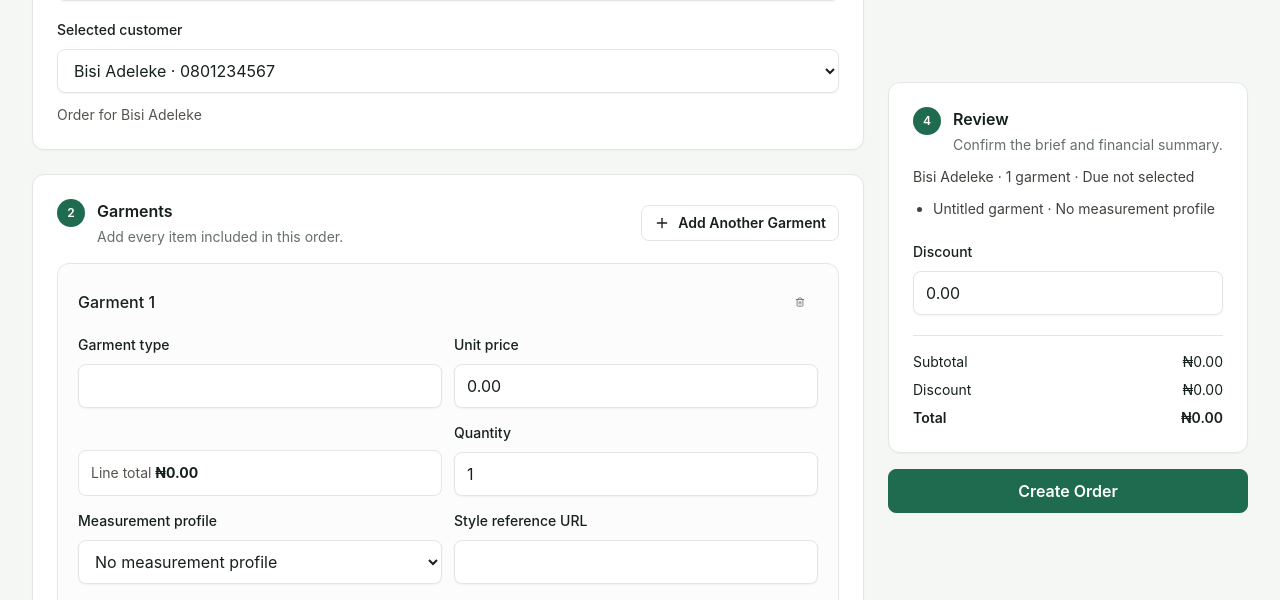
Test case: API creation error preserves form state
(page scrolled)
expect the text "Order for Bisi Adeleke" is shown: met, box [57,106,202,122]
Type "Agbada" into the field labelled "Garment type".
click(260, 386); type("Agbada")  # box [78,364,442,408]
(page scrolled)
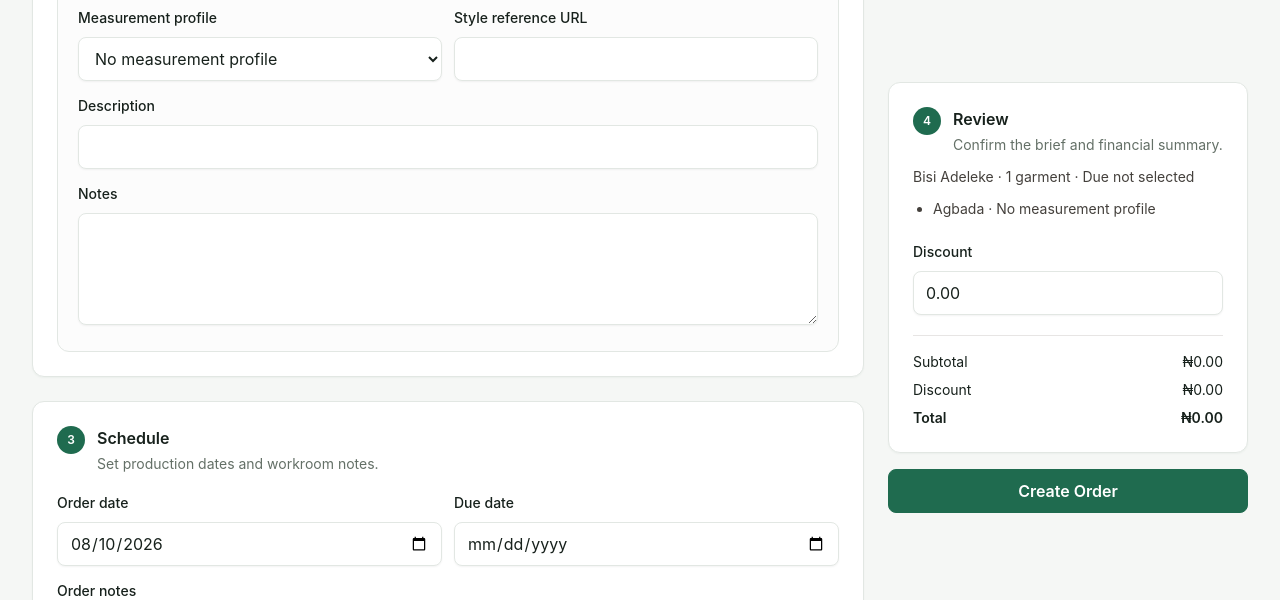
Type "2026-08-20" into the date field labelled "Due date".
click(646, 544); type("2026-08-20")  # box [454,522,839,566]
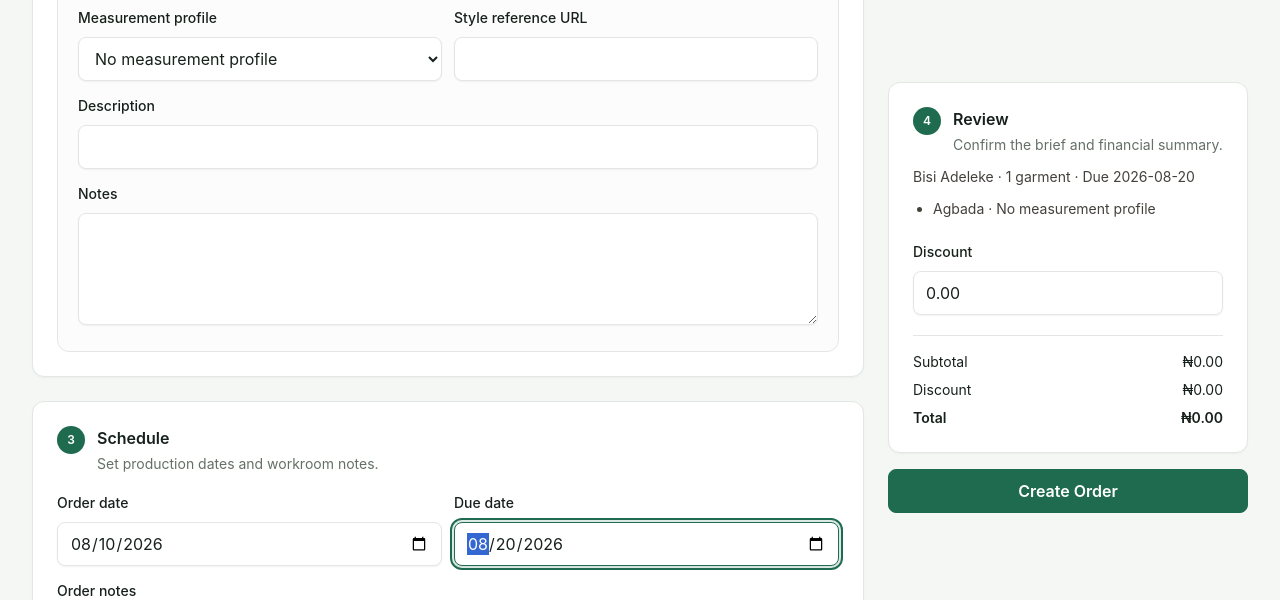
Click the button "Create Order".
click(1068, 490)  # box [888,468,1248,512]
(page scrolled)
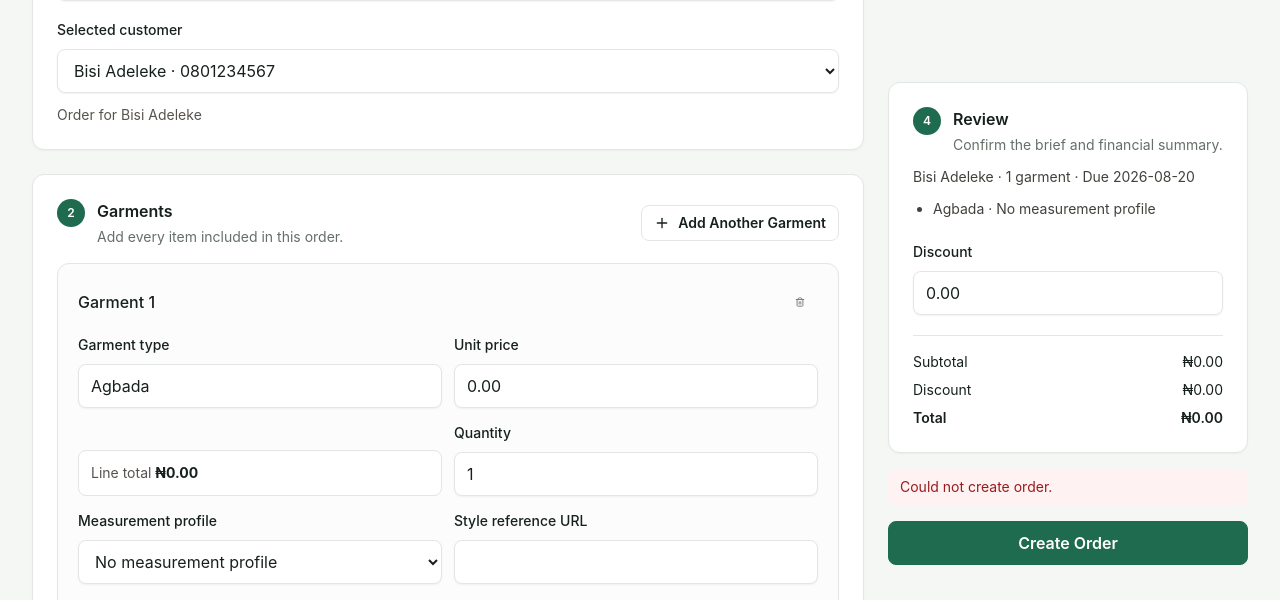
expect the text "Could not create order." is shown: met, box [888,468,1248,504]
